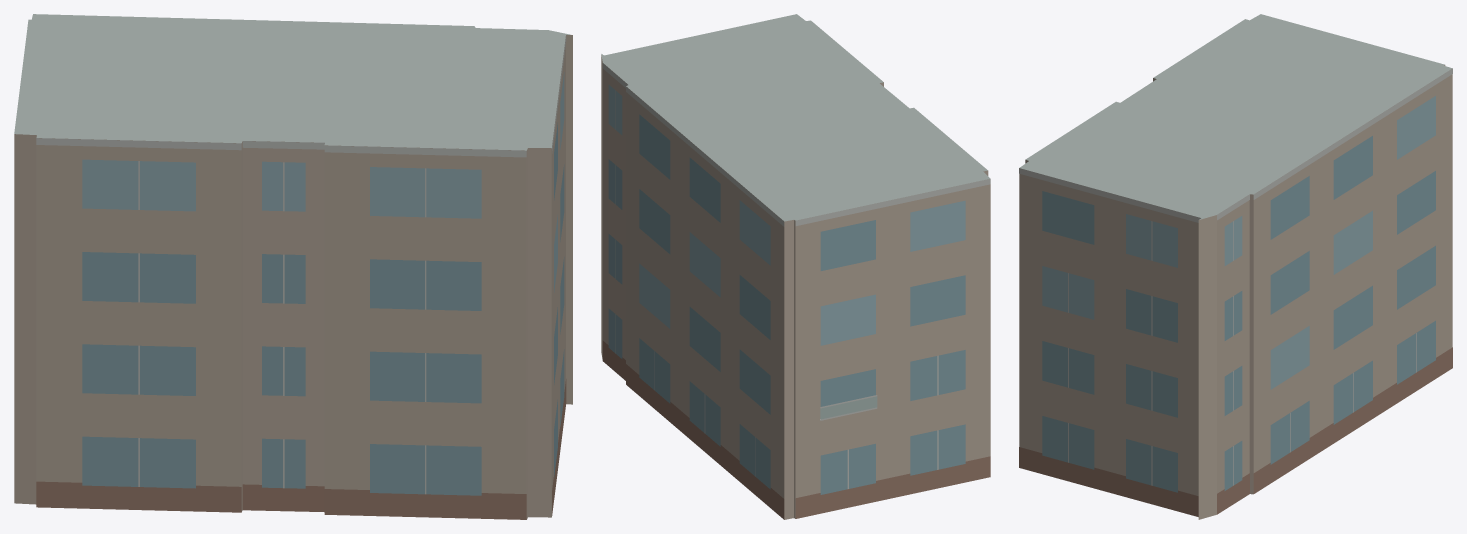
Rendered from survey-upis-32649189.glb.
3 views of the same model, side by side, from view 1: azimuth 30°, elevation 25°; view 2: azimuth 150°, elevation 25°; view 3: azimuth 270°, elevation 25° (orthographic). The views are drawn at different scales.
Parts seen in each view (by area): view 1: survey-upis-32649189.tmp; view 2: survey-upis-32649189.tmp; view 3: survey-upis-32649189.tmp.
Boxes of the visible parts, x1,y1,x2,y2 form: survey-upis-32649189.tmp: (14,14,572,519); survey-upis-32649189.tmp: (601,14,990,519); survey-upis-32649189.tmp: (1019,14,1452,519).
Bounding box in the file's own units: 19.06 × 12.92 × 16.94.
